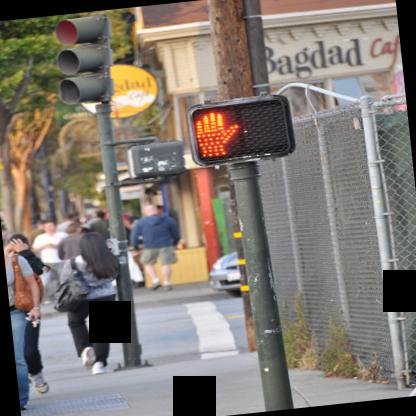handbag: (51, 256, 90, 312), (9, 255, 45, 312)
